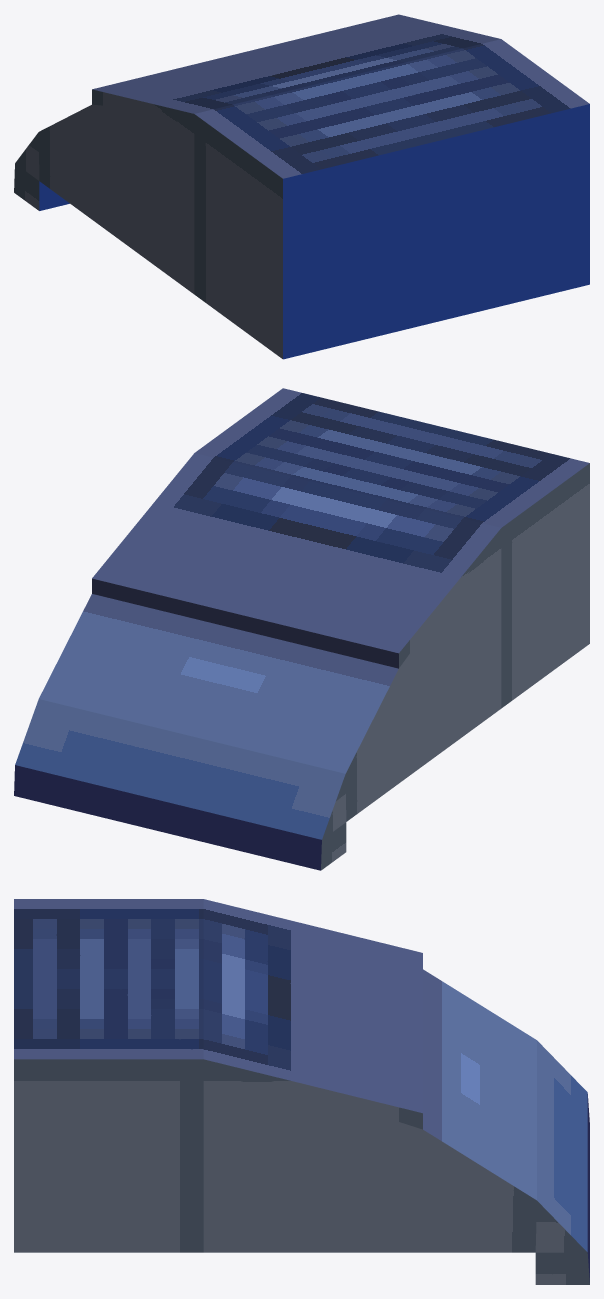
The model's file is df21_exhaust_fan.obj.
3 views of the same model, one above another, from view 1: azimuth 30°, elevation 25°; view 2: azimuth 150°, elevation 25°; view 3: azimuth 270°, elevation 25° (orthographic). The views are drawn at different scales.
Parts seen in each view (by area): view 1: cuboid_selection_selection_selection_selection_selection; view 2: cuboid_selection_selection_selection_selection_selection; view 3: cuboid_selection_selection_selection_selection_selection.
Boxes of the visible parts, x1,y1,x2,y2 form: cuboid_selection_selection_selection_selection_selection: [14, 14, 589, 359]; cuboid_selection_selection_selection_selection_selection: [14, 388, 589, 870]; cuboid_selection_selection_selection_selection_selection: [14, 899, 589, 1284].
Size of the model in its own units: 1 by 0.6562 by 1.52.
